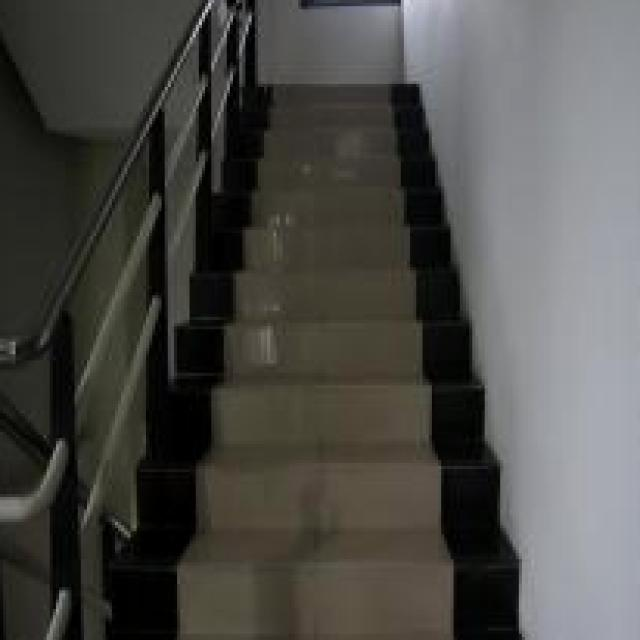upstair: (169, 82, 476, 640)
